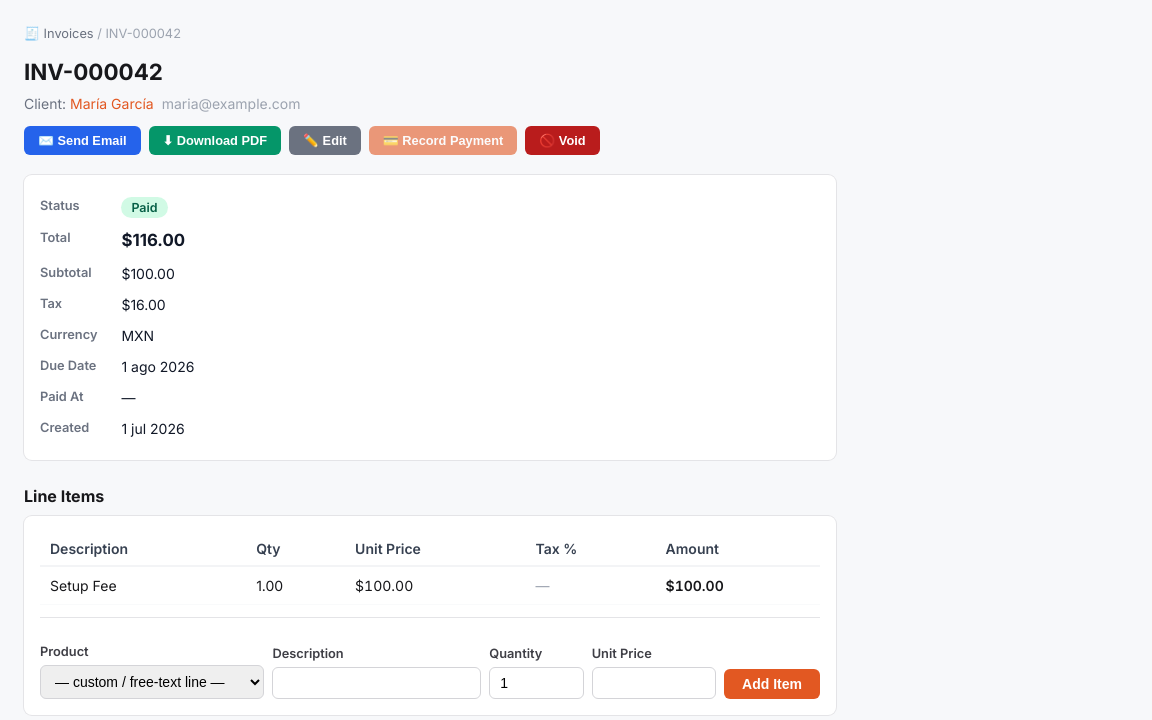
Test: InvoiceDetail void vs. SAT cancel › clicking Void with applied payments explains deallocate-first instead of voiding
Click the button "🚫 Void".
click(562, 140)  # box [525, 126, 600, 155]
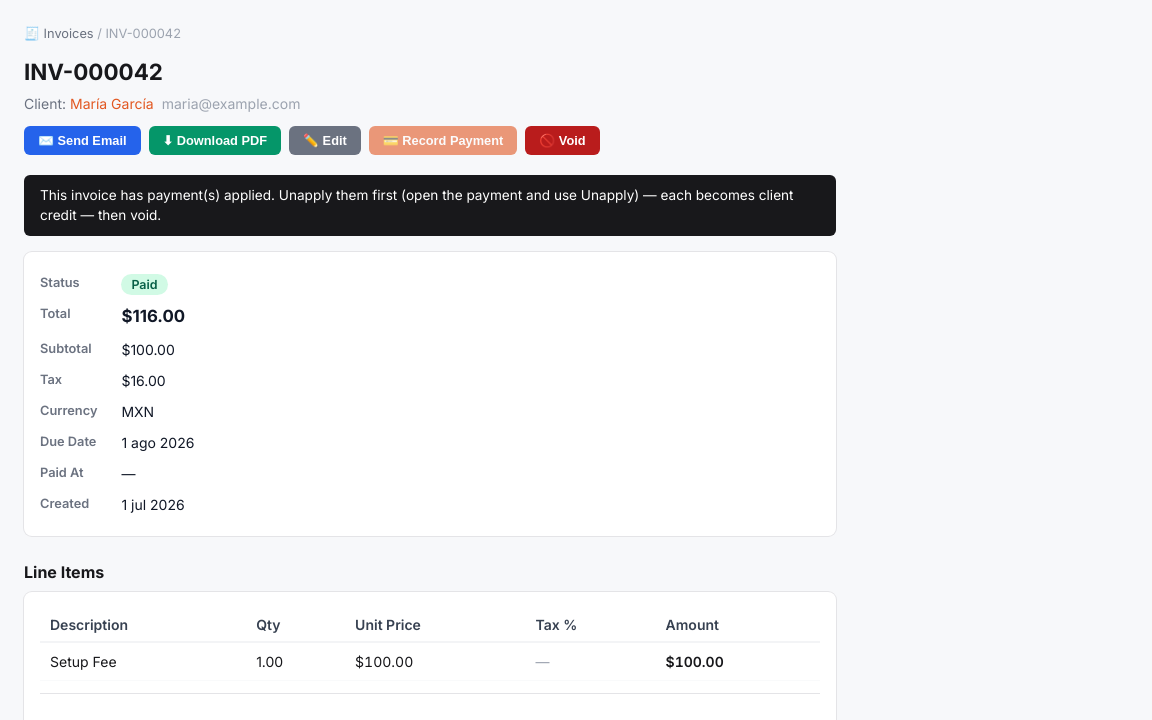
Now the text "Unapply them first" is shown, box [40, 187, 794, 223]
